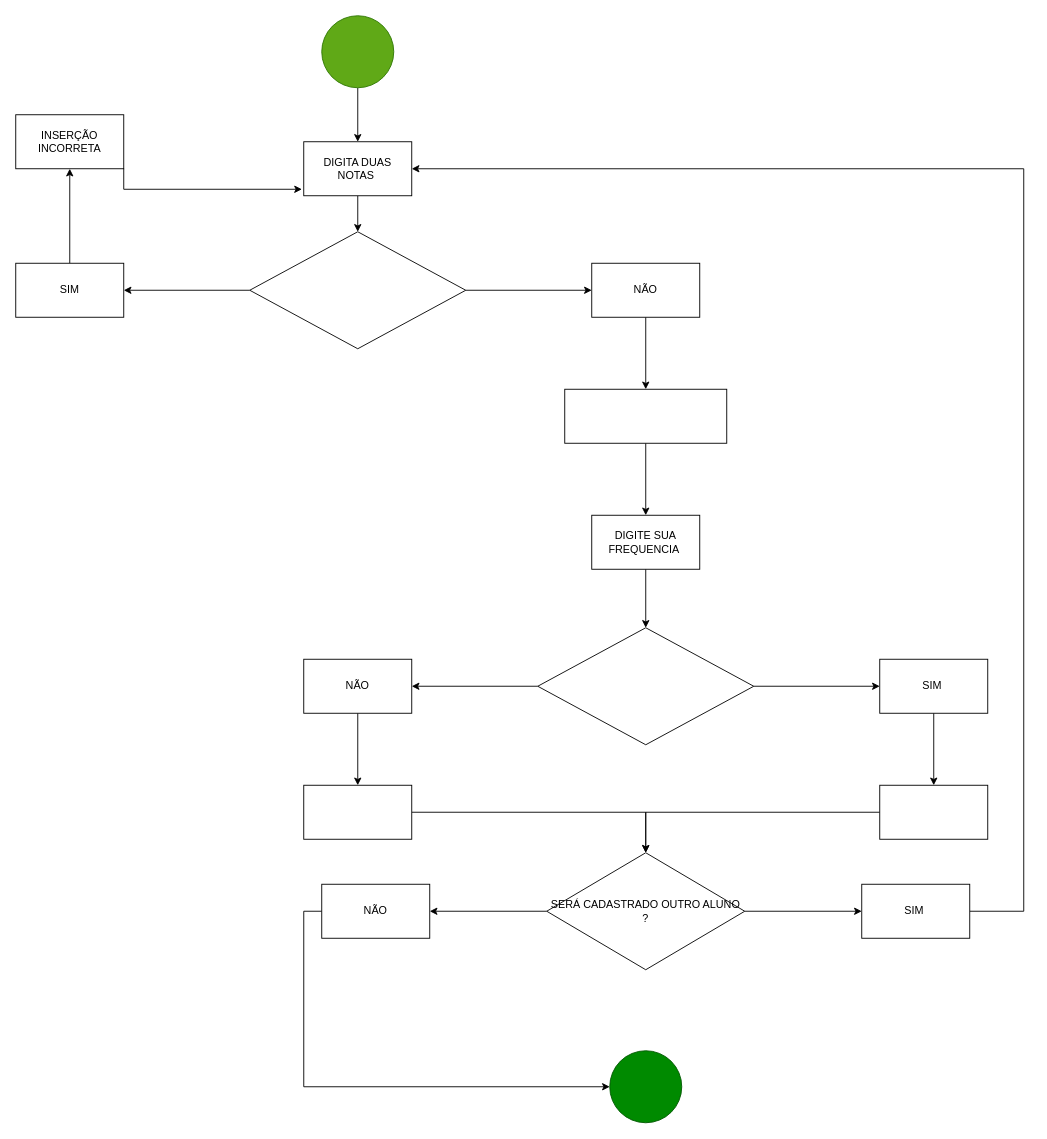
The diagram is 1047 pixels wide and 1139 high, and some of its shapes have lost their labels. The shapes that lost their labels are listed below. From the top down, each one's centre as x and y in pixels, then its label:
(x=357, y=290): ALGUMA NOTA É MAIOR QUE 10 OU MENOR QUE 0 ?
(x=645, y=415): MEDIA = (NOTA 01 + NOTA 02)/2
(x=645, y=686): MEDIA > 6 E FREQUENCIA > 70%
(x=357, y=811): INFELIZMENTE REPROVADO
(x=933, y=811): PARABÉNS APROVADO
